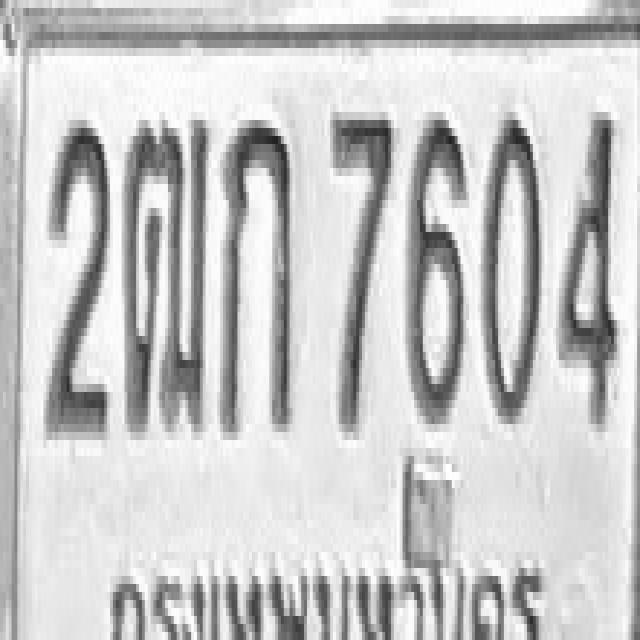0: (481, 104, 542, 424)
10GorGai: (217, 116, 293, 436)
2: (43, 112, 110, 440)
27ThorPhuThao: (121, 112, 212, 432)
4: (558, 104, 618, 424)
6: (406, 112, 466, 424)
7: (330, 104, 394, 432)
